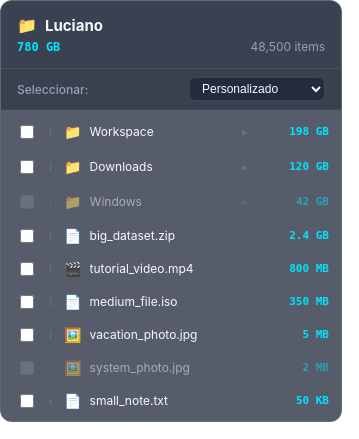
Test: T022-T028: SpaceLensFileList › T027: info button opens path or logs feedback
Click the button with test id "info-btn-Workspace": (51, 132) [45,121,56,142]
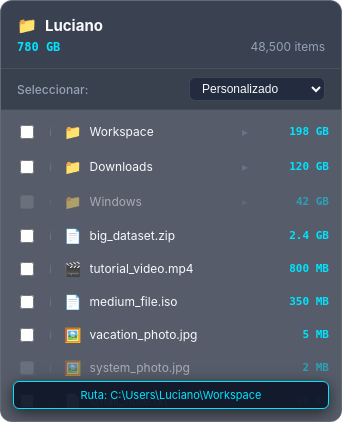
expect the text with test id "spacelens-info-toast" shows "Workspace": met, box [80,388,261,402]
